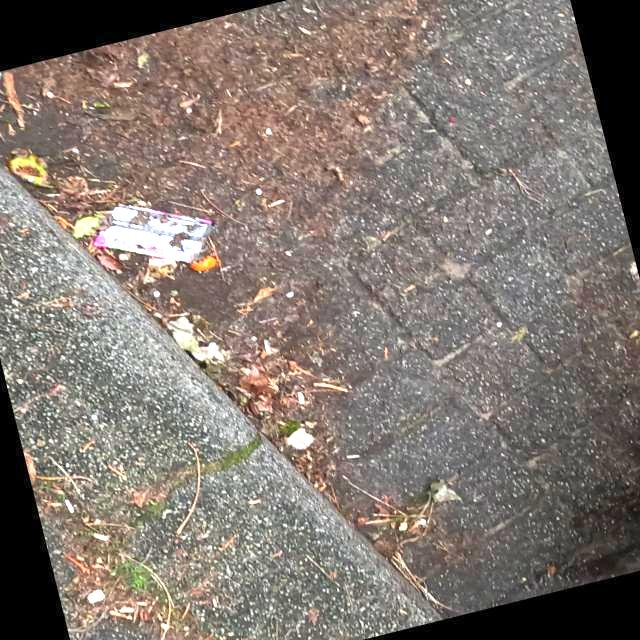Paper: (90, 200, 214, 268)
